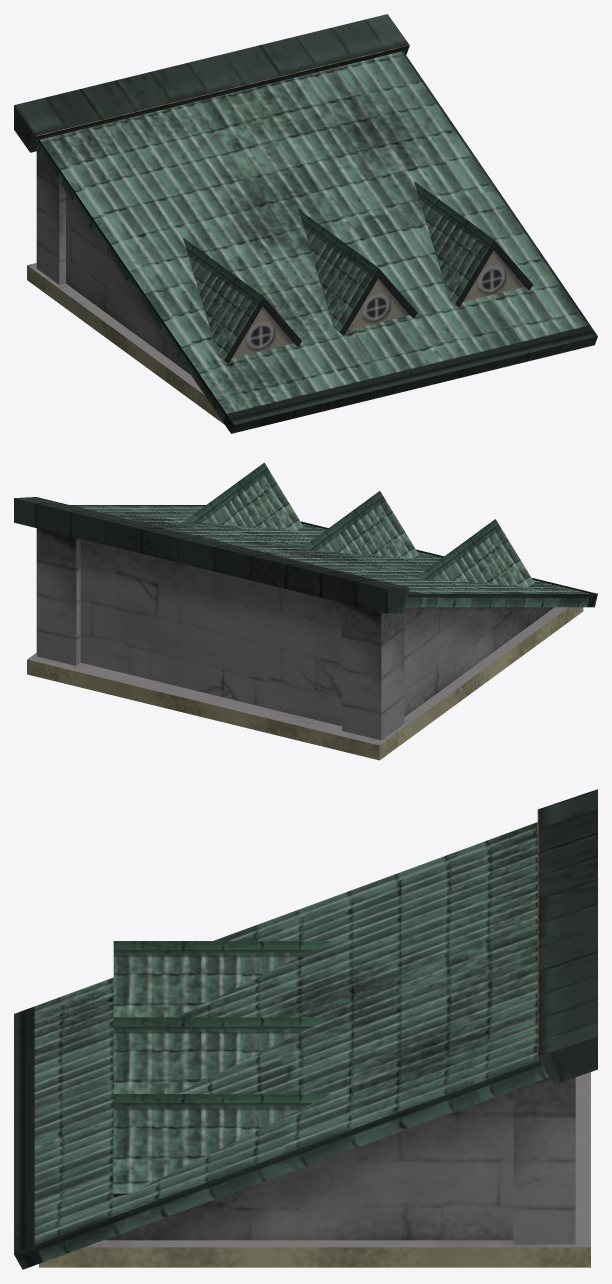
The model's file is Building03_roof2.FBX.
3 renders of one model, top to bottom at view 1: azimuth 30°, elevation 25°; view 2: azimuth 150°, elevation 25°; view 3: azimuth 270°, elevation 25°, orthographic. The views are drawn at different scales.
Visible parts, largest first — view 1: roof2; view 2: roof2; view 3: roof2.
Part boxes in pixels (x1,y1,x2,y2): roof2: (14, 14, 597, 433); roof2: (14, 462, 597, 760); roof2: (14, 789, 597, 1269).
Bounding box in the file's own units: 9.42 × 4.23 × 9.41.
